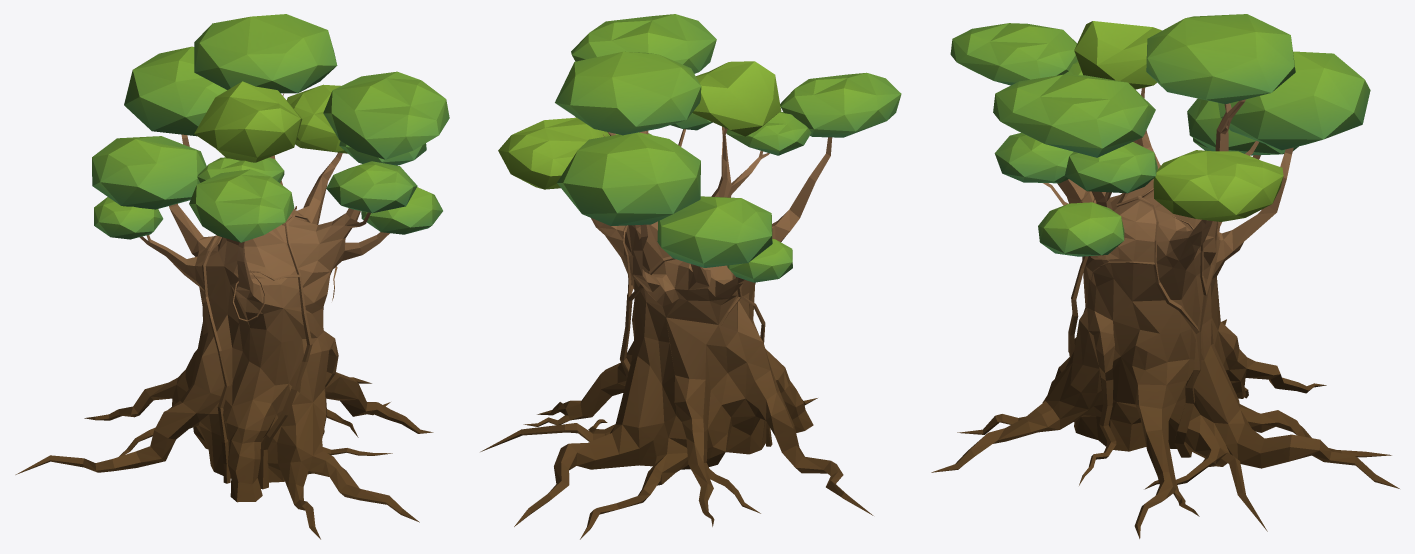
The model's file is ZLP_Plant_B_6.FBX.
3 views of the same model, side by side, from view 1: azimuth 30°, elevation 25°; view 2: azimuth 150°, elevation 25°; view 3: azimuth 270°, elevation 25° (orthographic). The views are drawn at different scales.
Parts seen in each view (by area): view 1: ZLP_Plant_B_6; view 2: ZLP_Plant_B_6; view 3: ZLP_Plant_B_6.
Boxes of the visible parts, left/top/right/bottom form: ZLP_Plant_B_6: left=15, top=14, right=449, bottom=539; ZLP_Plant_B_6: left=480, top=14, right=901, bottom=539; ZLP_Plant_B_6: left=931, top=14, right=1399, bottom=538.
Bounding box in the file's own units: 1250 × 1288 × 1247.
